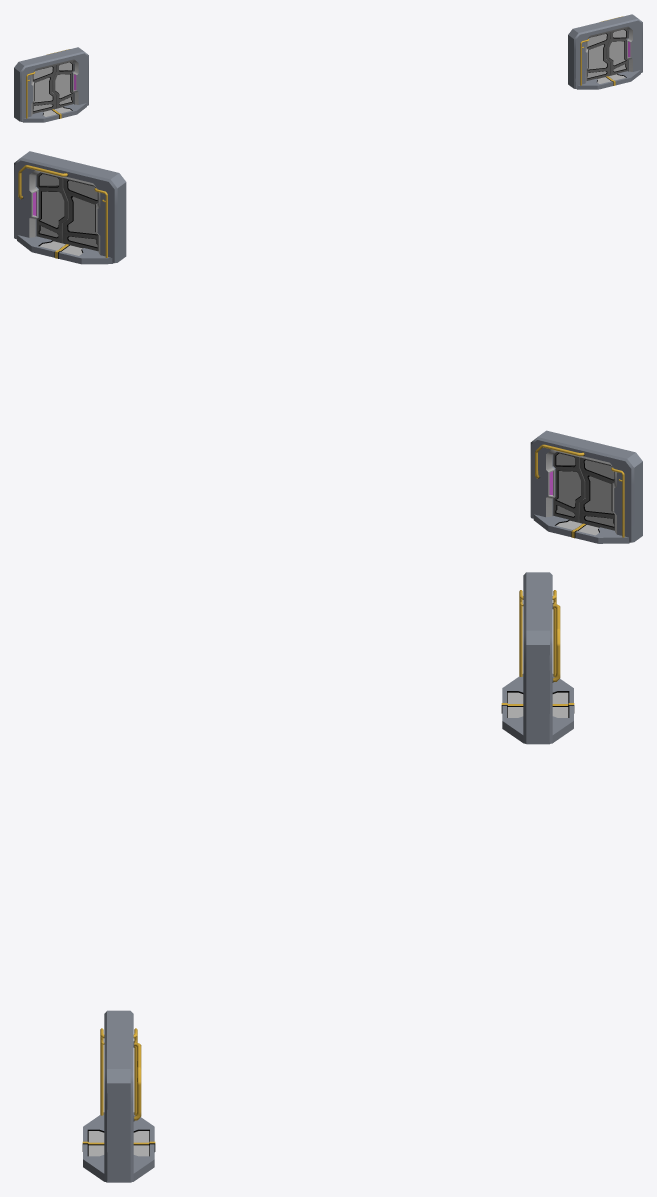
Rendered from Level18_Doors.fbx.
3 views of the same model, one above another, from view 1: azimuth 30°, elevation 25°; view 2: azimuth 150°, elevation 25°; view 3: azimuth 270°, elevation 25° (orthographic). The views are drawn at different scales.
Parts seen in each view (by area): view 1: Base (×2), Right (×2), Left (×2), Base5 (×2); view 2: Base (×2), Right (×2), Left (×2), Base5 (×2); view 3: Base (×2), Base5 (×2).
Part boxes in pixels (left/top/right/bottom): Base (×2): left=14, top=14, right=642, bottom=121; Right (×2): left=32, top=32, right=610, bottom=113; Left (×2): left=52, top=28, right=627, bottom=108; Base5 (×2): left=22, top=70, right=640, bottom=122; Base (×2): left=14, top=151, right=642, bottom=542; Right (×2): left=62, top=178, right=614, bottom=530; Left (×2): left=36, top=172, right=585, bottom=522; Base5 (×2): left=17, top=235, right=630, bottom=543; Base (×2): left=104, top=572, right=552, bottom=1182; Base5 (×2): left=82, top=674, right=574, bottom=1181.
Bounding box in the file's own units: 410 × 41.91 × 168.
